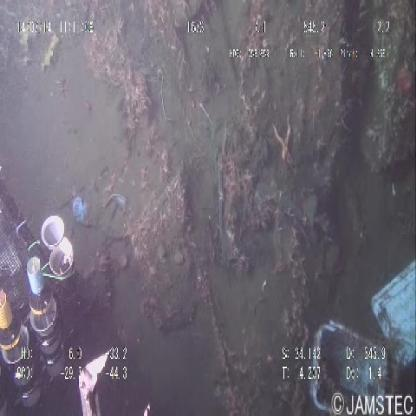Rov: (1, 140, 158, 416)
Rác: (299, 249, 416, 416)
